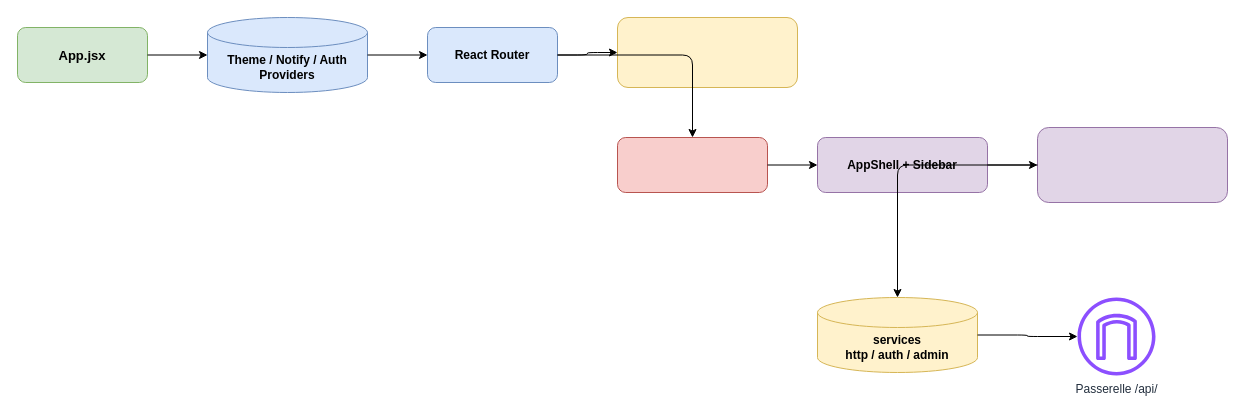
Image size: 1245x414. Some labels were removed from this diagram. The shapes that lost their labels are listed below. From the top down, each one's centre as x and y in pixels, then its label:
At [707,52]: "Routes publiques Home / Login / Register".
At [692,164]: "ProtectedRoute".
At [1132,164]: "RoleDashboard / Admin Settings / ResourcePage".
